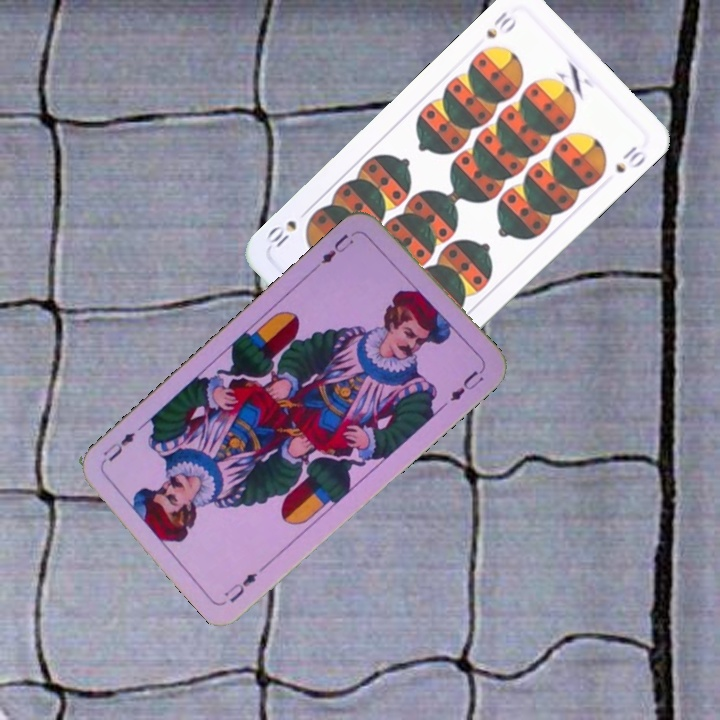EU: (316, 227, 360, 267), (220, 568, 261, 606)
S10: (482, 6, 520, 41)
